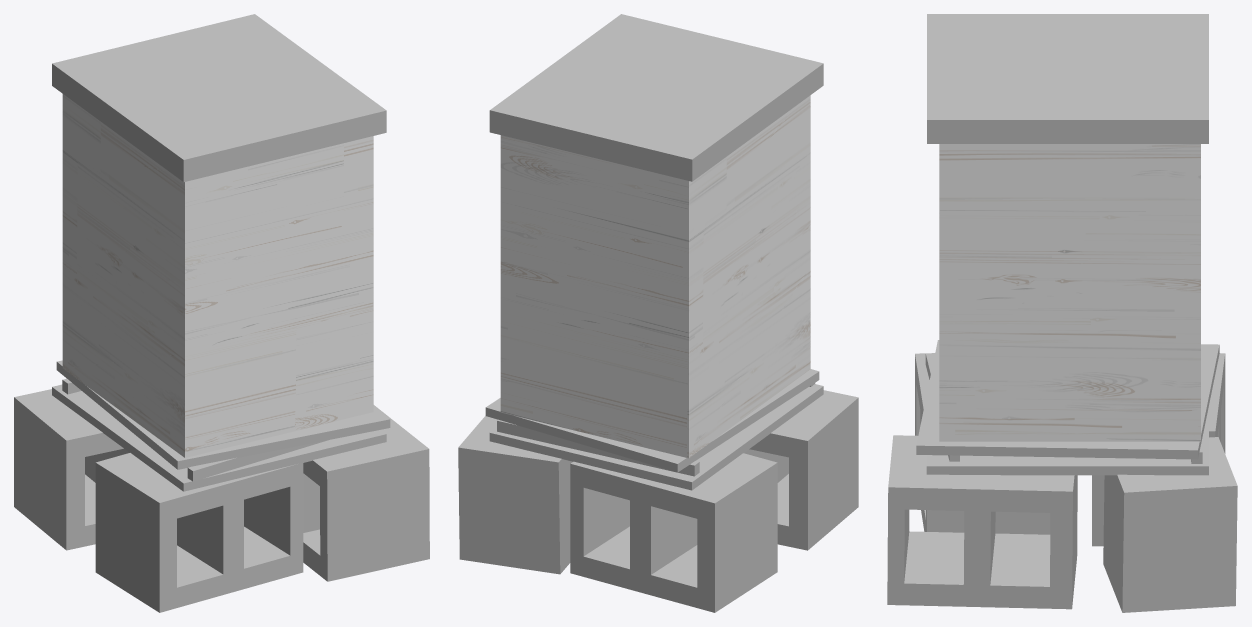
File: Beehive_withTexture 1.fbx
3 renders of one model, left to right at view 1: azimuth 30°, elevation 25°; view 2: azimuth 150°, elevation 25°; view 3: azimuth 270°, elevation 25°, orthographic. The views are drawn at different scales.
Visible parts, largest first — view 1: polySurface19; view 2: polySurface19; view 3: polySurface19.
Part boxes in pixels (x1,y1,x2,y2): polySurface19: [14, 14, 429, 612]; polySurface19: [458, 14, 858, 612]; polySurface19: [887, 14, 1237, 612].
Size of the model in its own units: 27.98 by 43.65 by 29.06.
